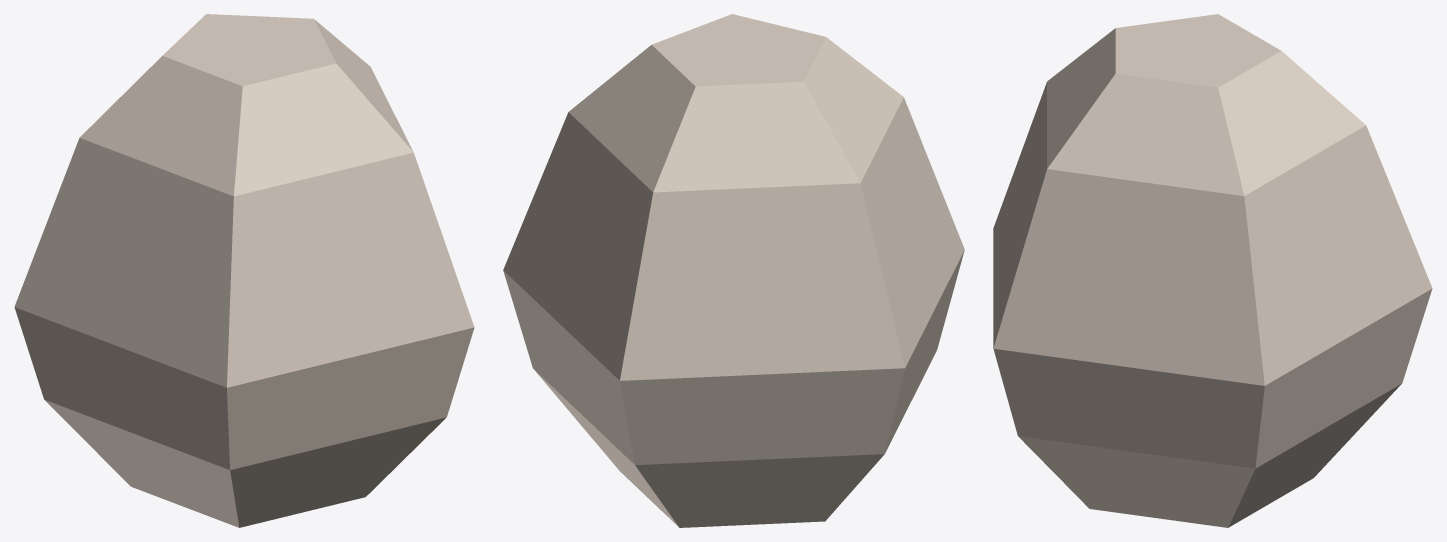
File: Egg.fbx
The picture shows the model from 3 angles, left to right: view 1: azimuth 30°, elevation 25°; view 2: azimuth 150°, elevation 25°; view 3: azimuth 270°, elevation 25°; orthographic projection.
Visible parts, largest first — view 1: Egg; view 2: Egg; view 3: Egg.
Part boxes in pixels (x1,y1,x2,y2): Egg: (14,14,474,527); Egg: (503,14,964,527); Egg: (993,14,1432,527).
Bounding box in the file's own units: 50.6 × 51.66 × 48.12.
